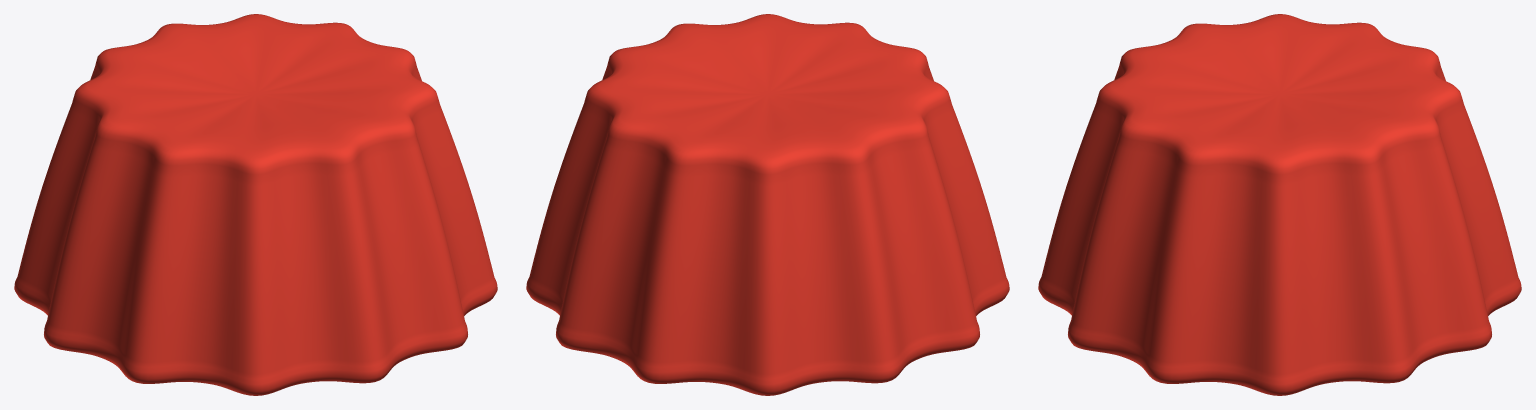
Rendered from jelly.glb.
3 views of the same model, side by side, from view 1: azimuth 30°, elevation 25°; view 2: azimuth 150°, elevation 25°; view 3: azimuth 270°, elevation 25° (orthographic).
Visible parts, largest first — view 1: Jelly_Fluted_12Lobes; view 2: Jelly_Fluted_12Lobes; view 3: Jelly_Fluted_12Lobes.
Part boxes in pixels (x1,y1,x2,y2): Jelly_Fluted_12Lobes: [14, 14, 497, 395]; Jelly_Fluted_12Lobes: [526, 14, 1009, 395]; Jelly_Fluted_12Lobes: [1038, 14, 1521, 395].
Size of the model in its own units: 0.1339 by 0.0658 by 0.1339.
